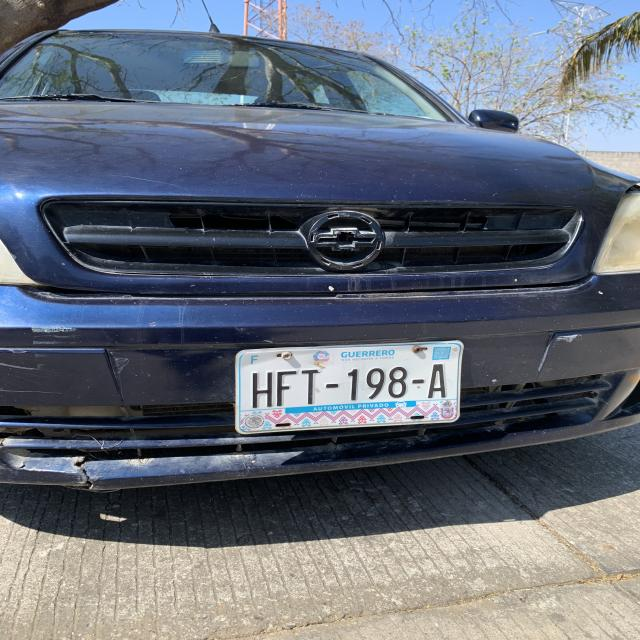placa: (232, 363, 464, 404)
